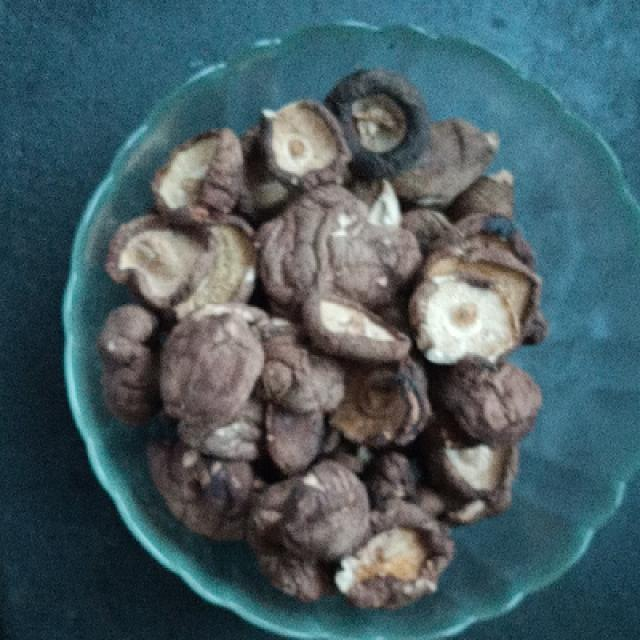Lentinus edodes: (108, 70, 548, 607)
